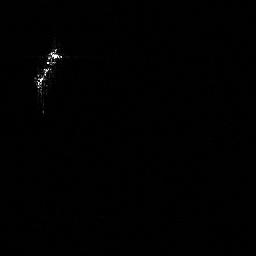ship: (30, 44, 64, 107)
